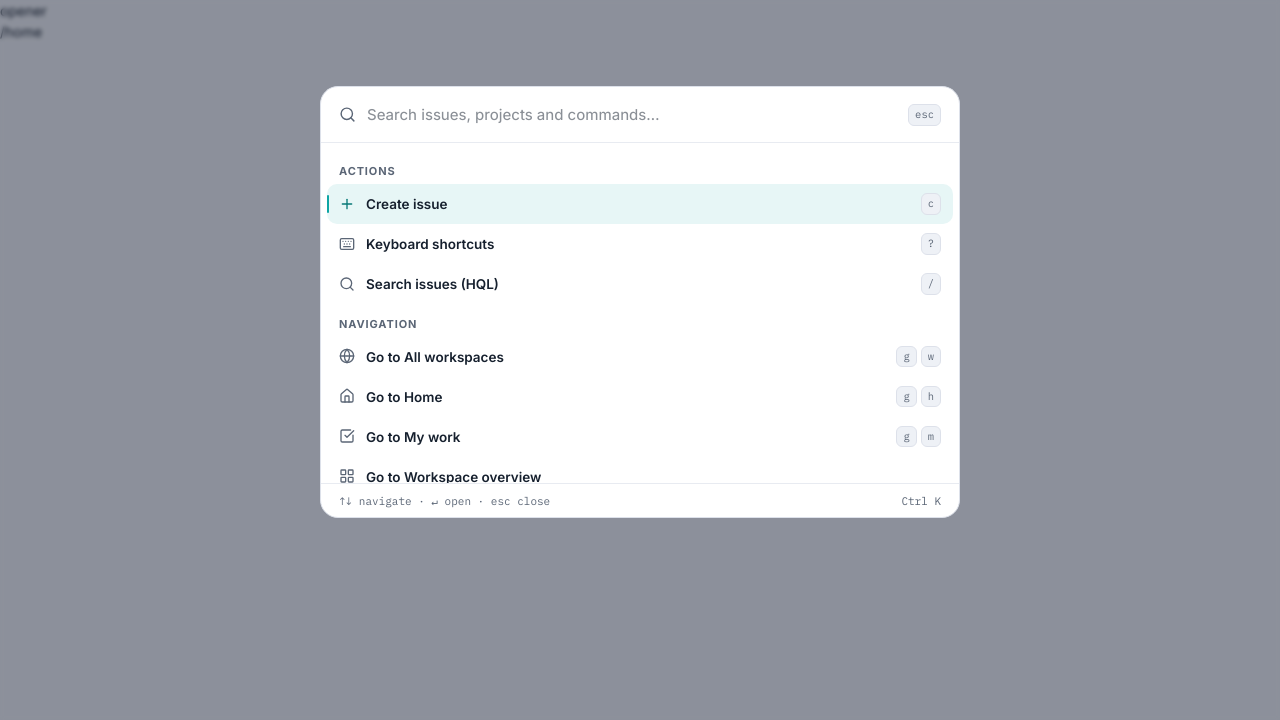
Test: CommandPalette — matching & sections › filters to matching rows and drops the rest
The image size is (1280, 720).
Check: the text "Create issue" is shown, box x1=366 y1=196 x2=448 y2=212
In the dropdown with placeholder "Search issues, projects and commands…": (632, 115) x1=367 y1=104 x2=897 y2=126, type "boa"
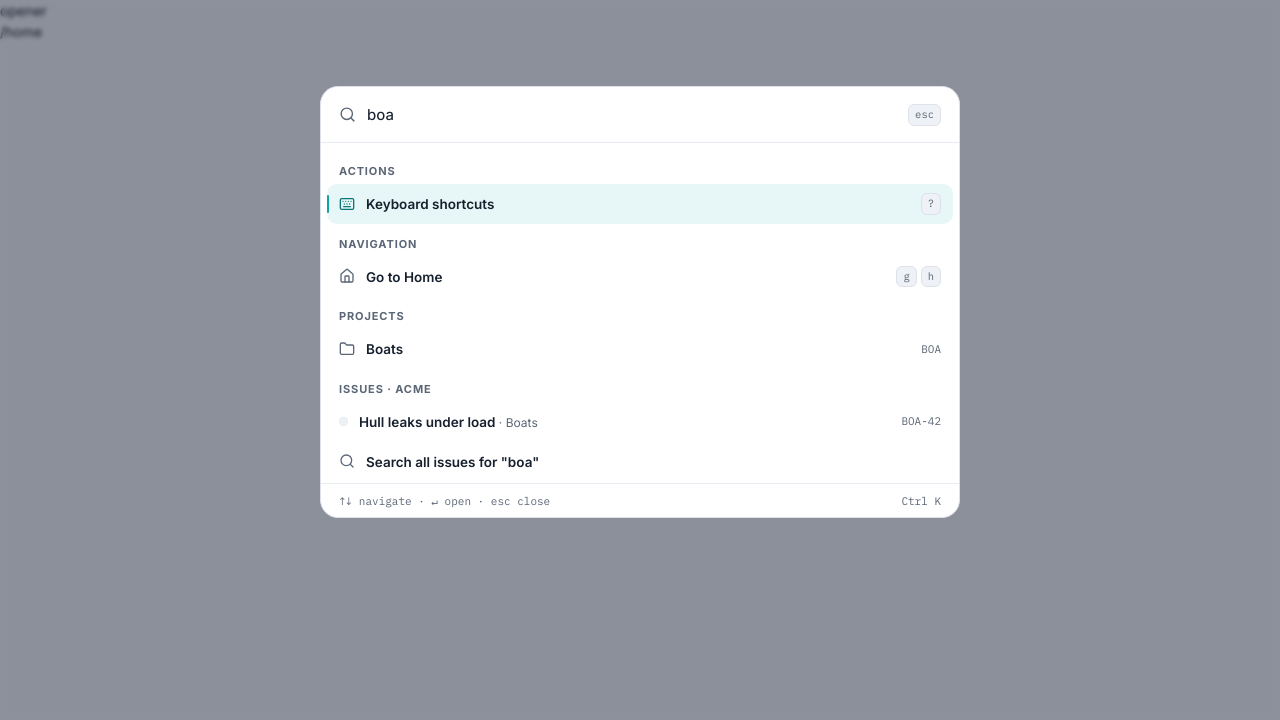
Check: the text "Boats" is shown, box x1=366 y1=341 x2=403 y2=357
Check: the text "Projects" is shown, box x1=339 y1=309 x2=405 y2=323
Check: the option "Go to My work" is gone
